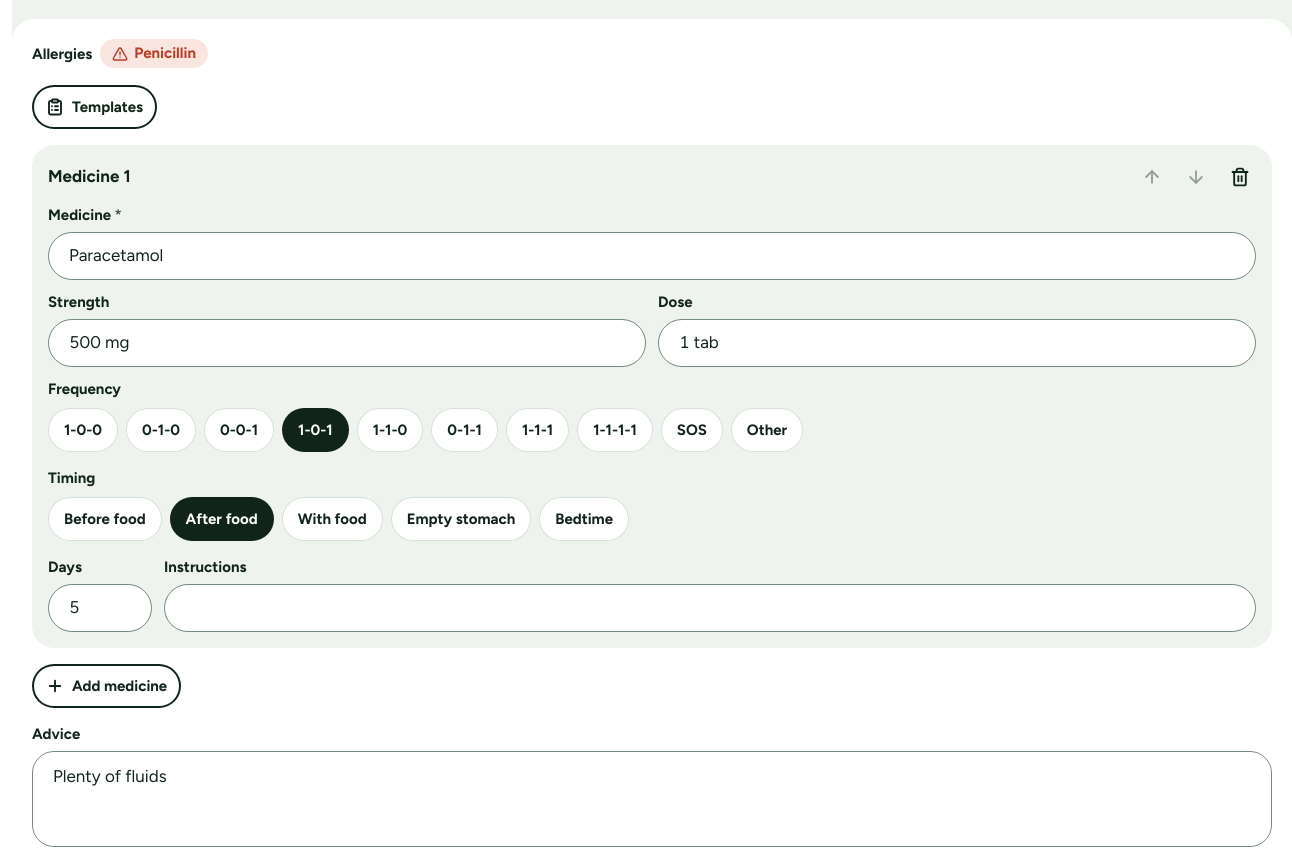
Scenario: PrescriptionSection's printout (D221, D222) › gives way to Save while there are unsaved changes, so a printout never misses what is typed
The image size is (1292, 867).
Type ". Rest" into the text box labelled "Advice". click: (652, 799)
box: [32, 751, 1272, 847]
(page scrolled)
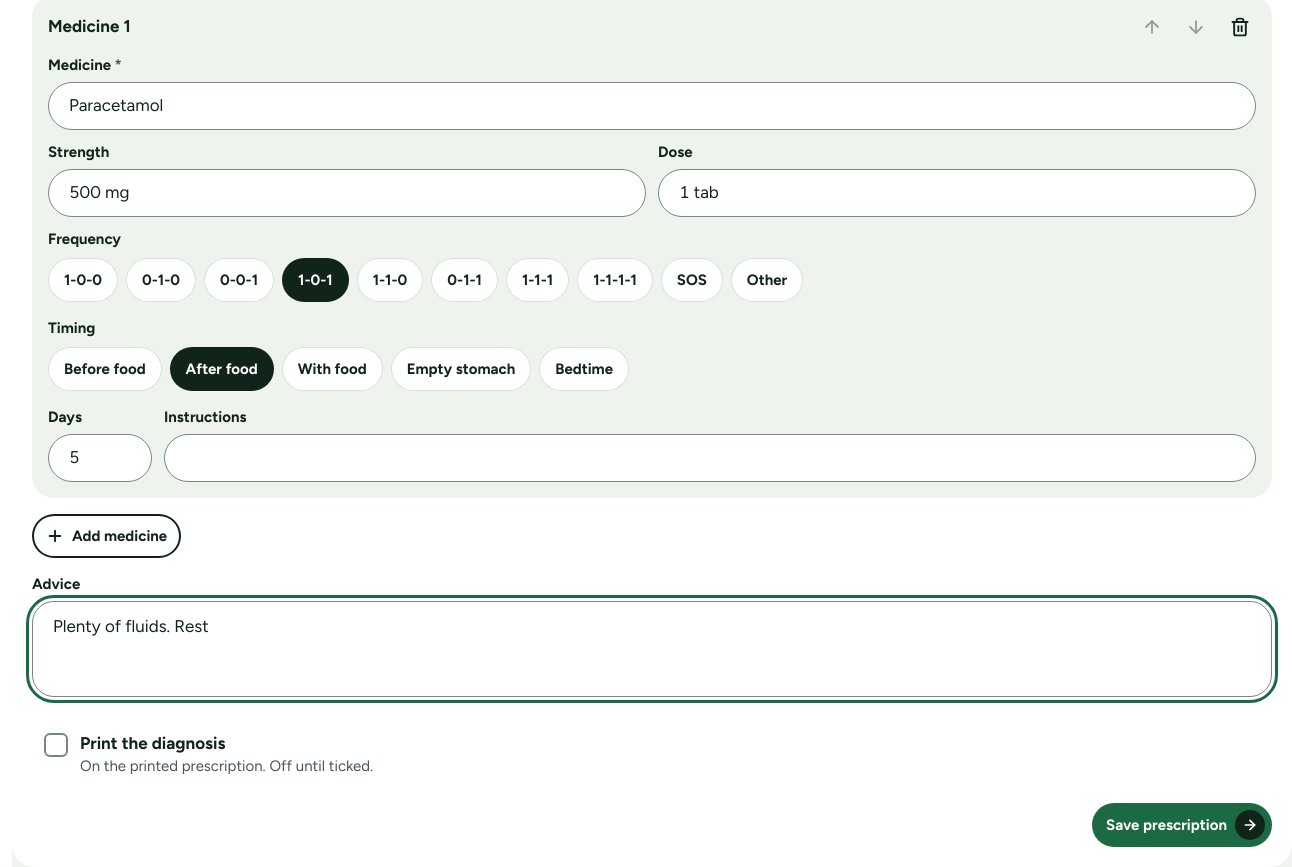
Check: the button "Save prescription" is shown, box [1092, 803, 1272, 847]
